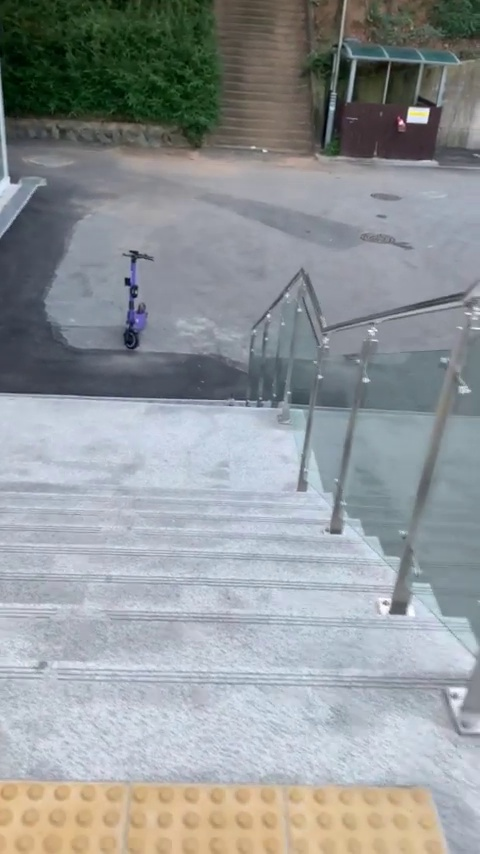beam: (115, 241, 165, 352)
